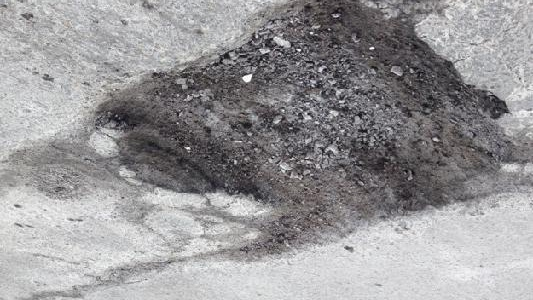pothole: (92, 1, 516, 261)
